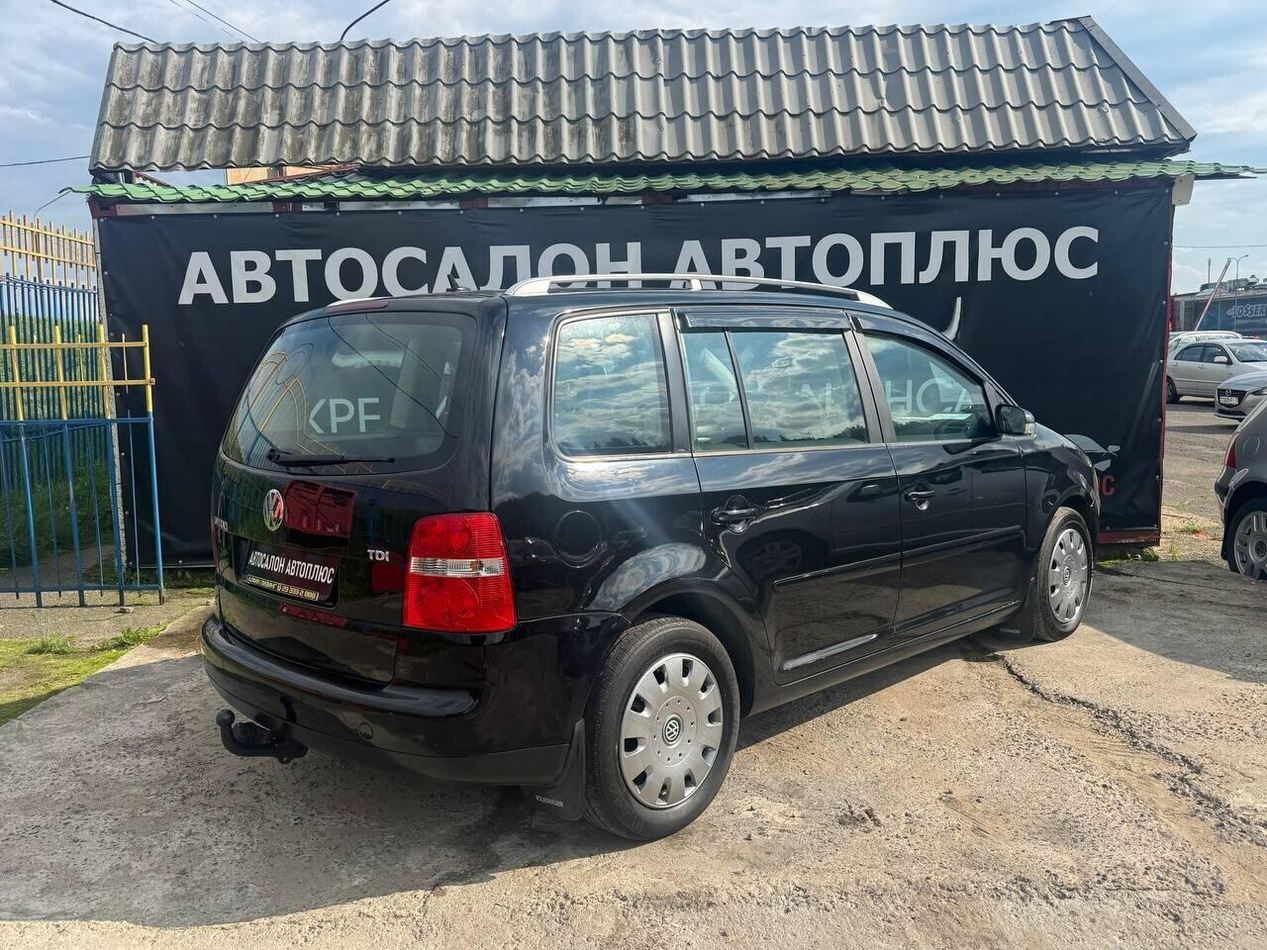Touran_2003-2006: (197, 291, 1096, 832)
